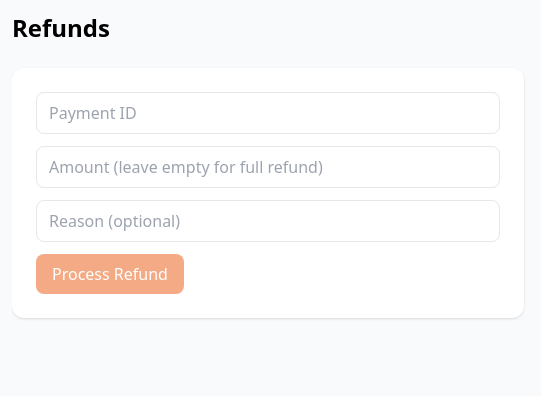
Test case: Refunds Page › shows error when API fails
Type "pay_123" into the field with placeholder "Payment ID" at (268, 113), box [36,92,500,134]
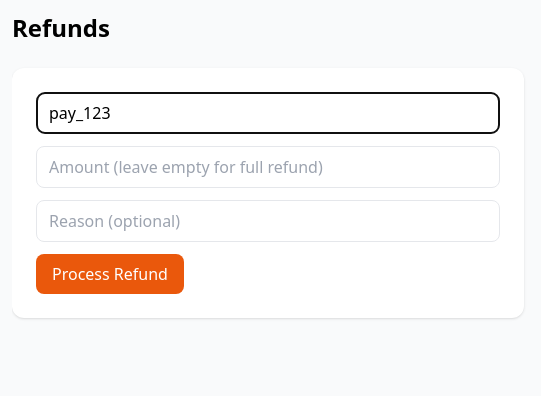
Click the button "Process Refund" at (110, 274), box [36,254,184,294]
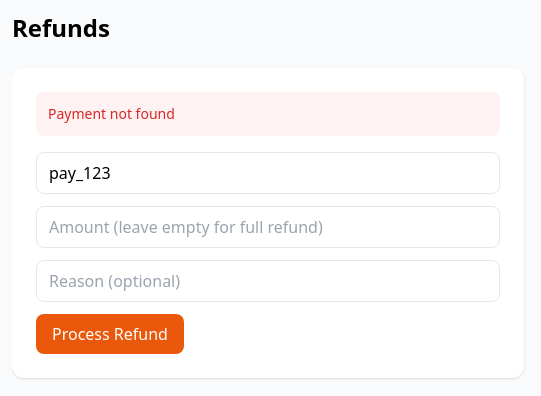
Expected: the text "Payment not found" is shown, [36,92,500,136]
